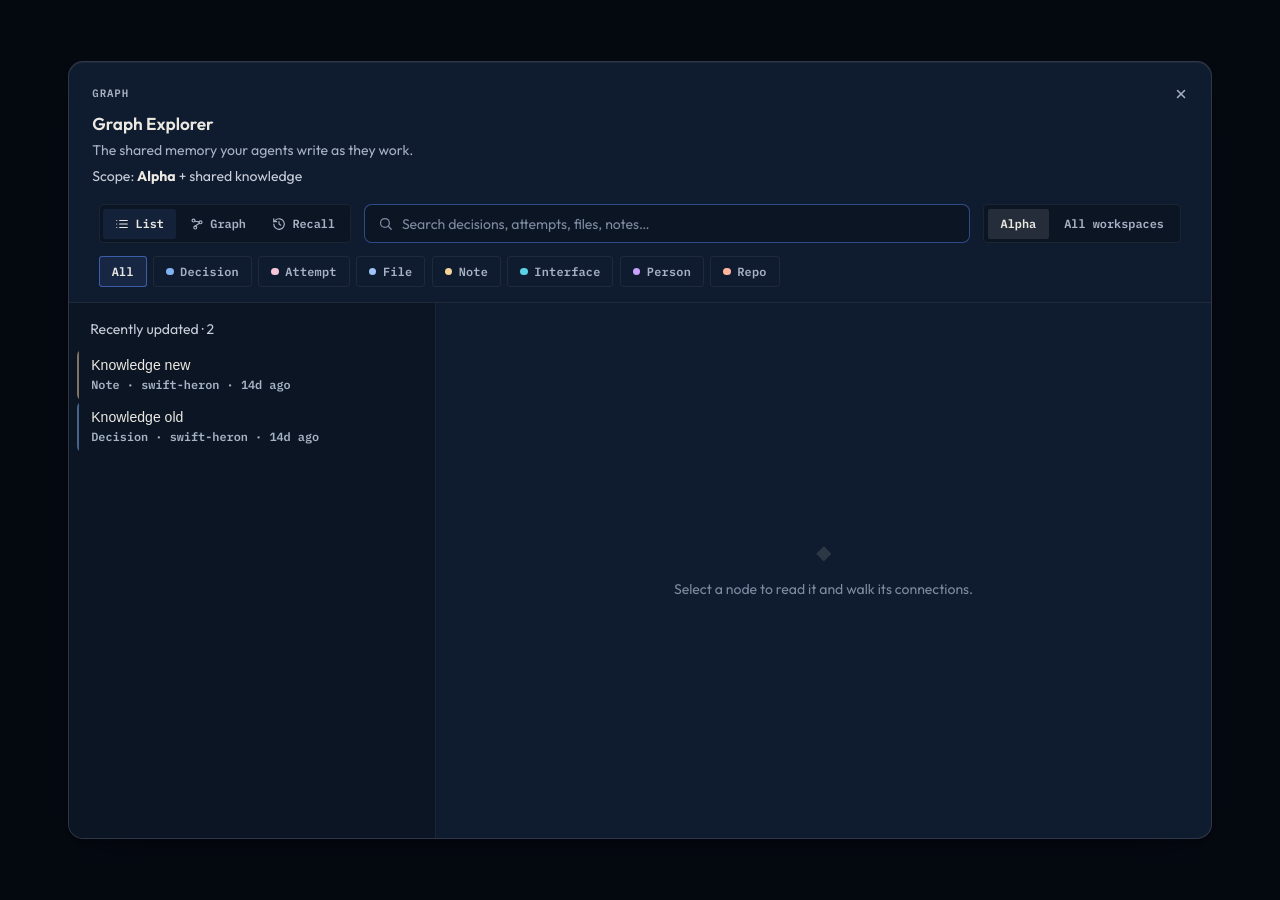
Test: contextual memory exploration › rejects an old query result even when it arrives during the new query's debounce
The image size is (1280, 900).
Type "old" into the field.
click(679, 224); type("old")  # box 402,205 -> 956,242
Wait 220 ms
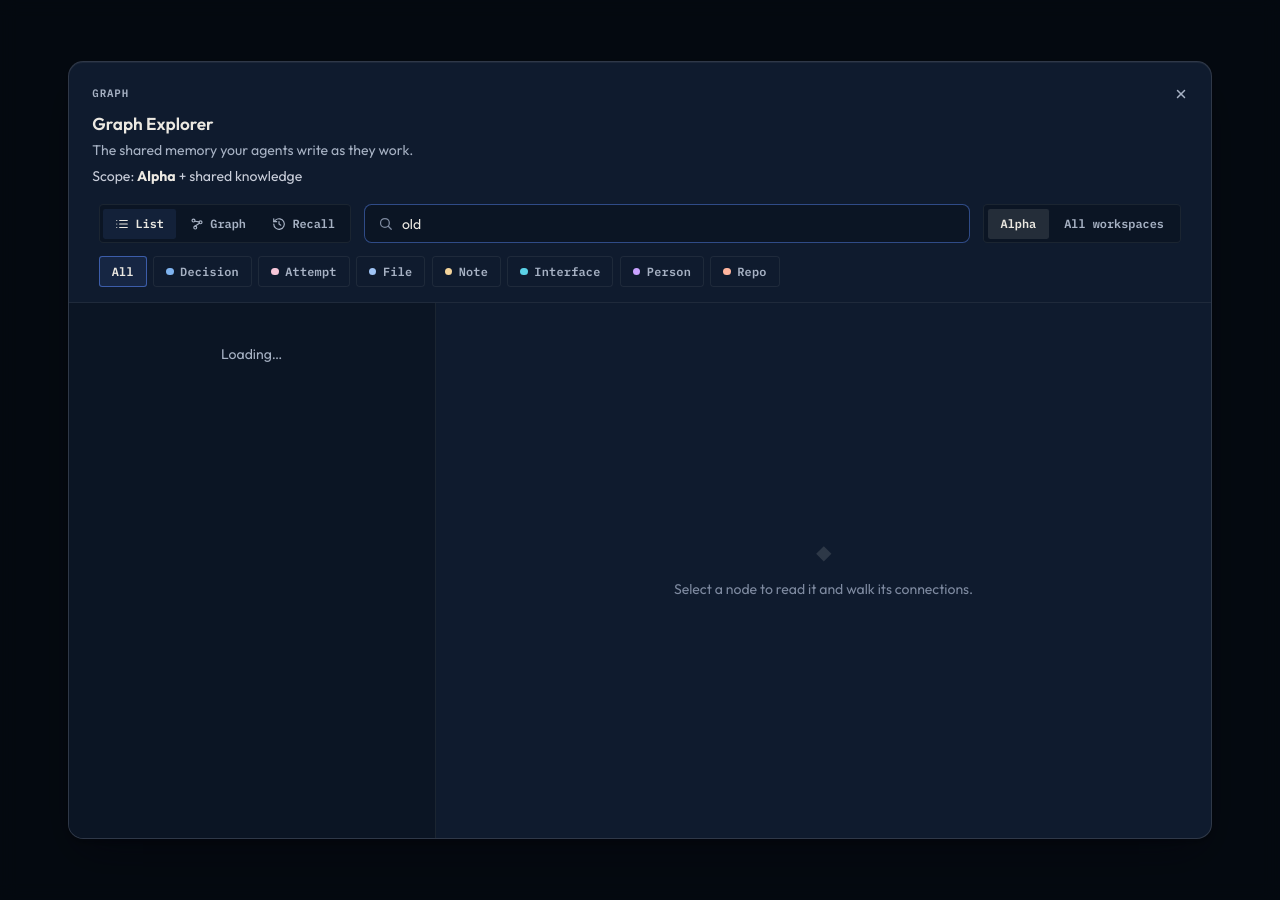
Replace the text in the field with "fresh" at (679, 224), box 402,205 -> 956,242
Wait 220 ms
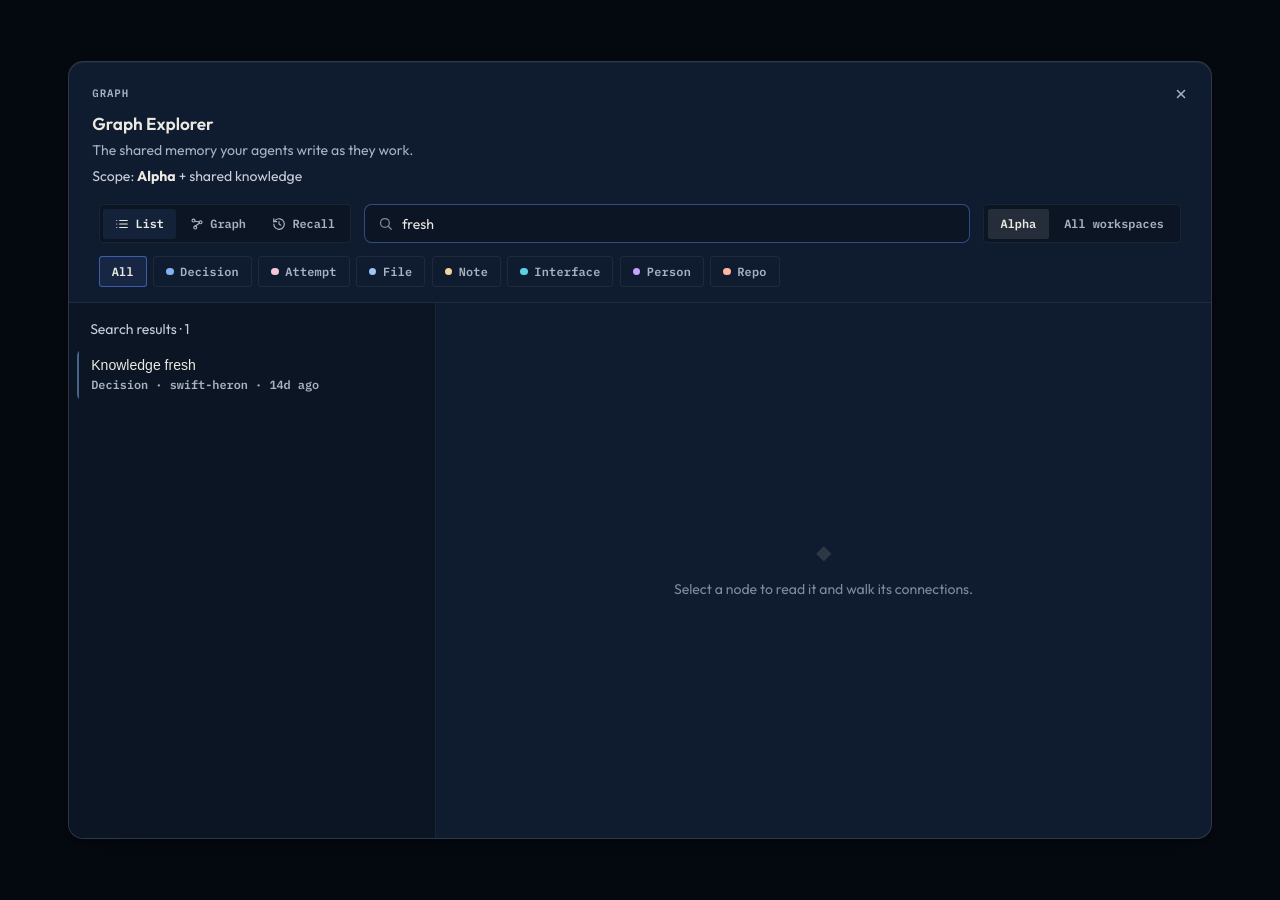
expect the text "Knowledge fresh" is shown: met, box 91,357 -> 196,373
